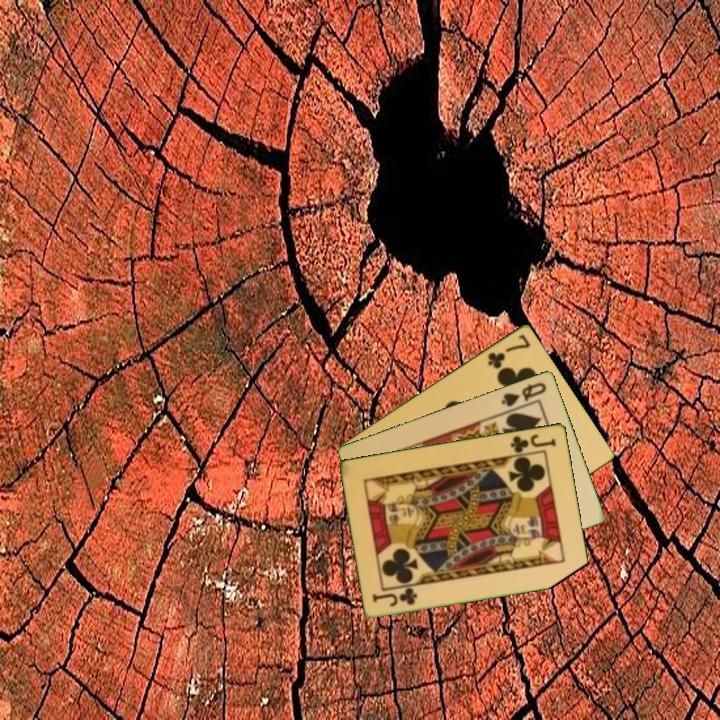7c: (484, 330, 533, 371)
Jc: (507, 430, 559, 456), (369, 585, 420, 609)
Qs: (498, 378, 550, 409)
